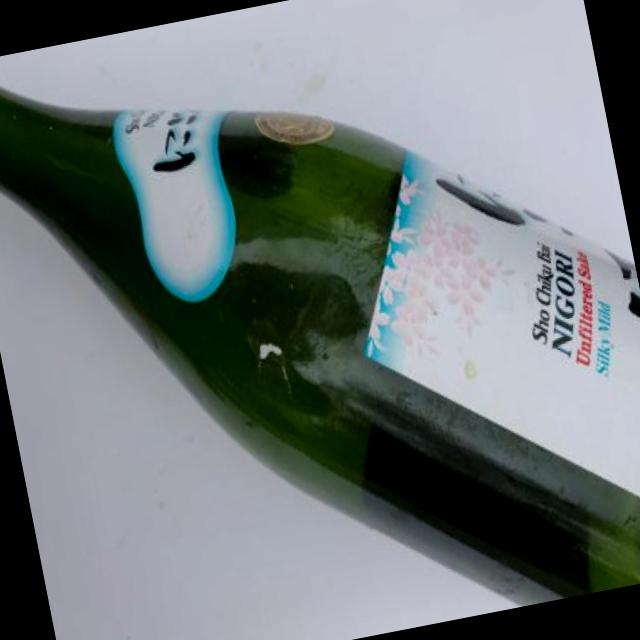chai_thuy_tinh: (0, 94, 640, 606)
